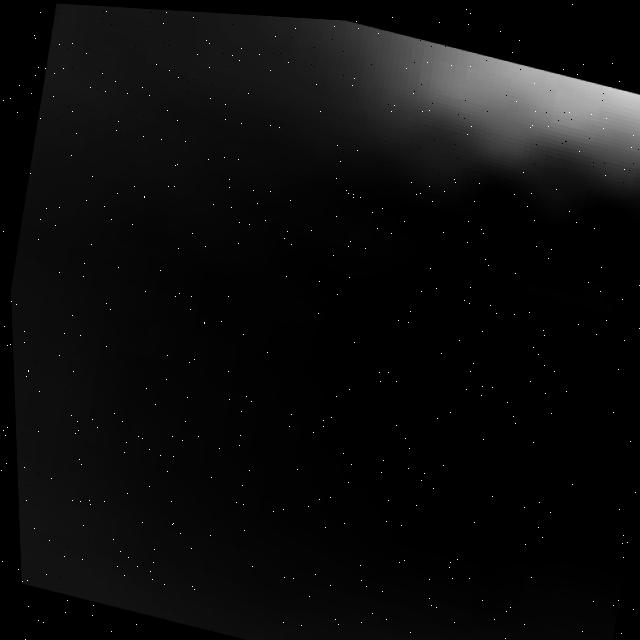person: (312, 15, 640, 204)
